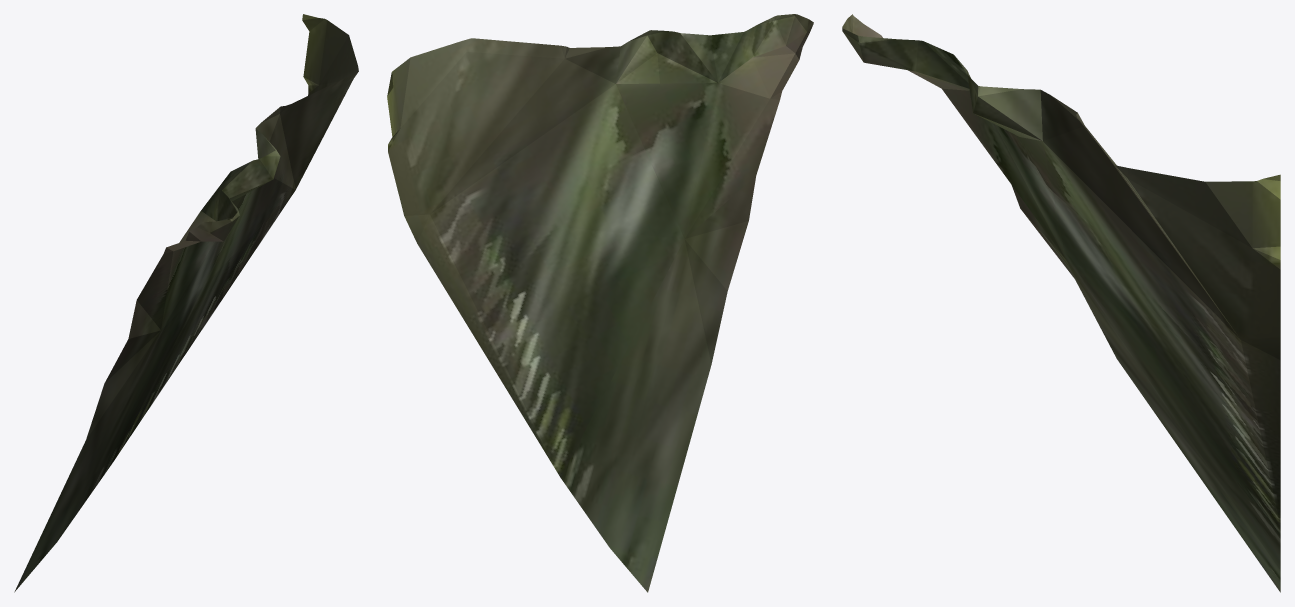
3 renders of one model, left to right at view 1: azimuth 30°, elevation 25°; view 2: azimuth 150°, elevation 25°; view 3: azimuth 270°, elevation 25°, orthographic. The views are drawn at different scales.
Size of the model in its own units: 1.47 by 2.37 by 1.63.
Materials: 1 (1 with a texture image).
